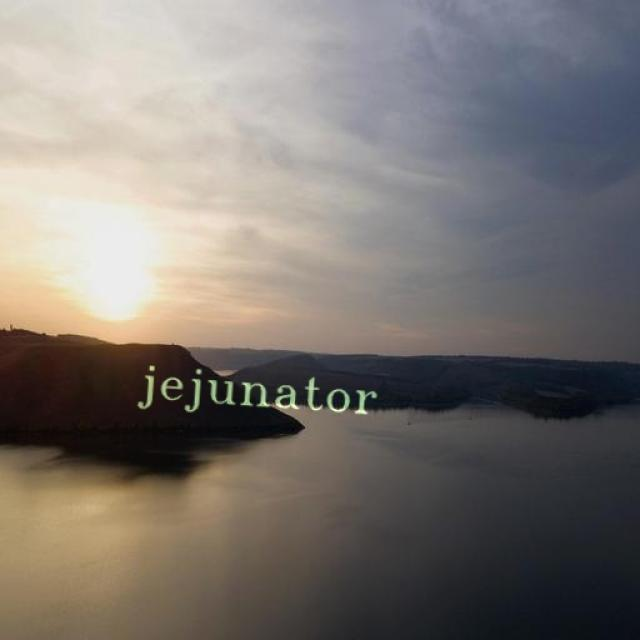watermark: (126, 362, 410, 422)
